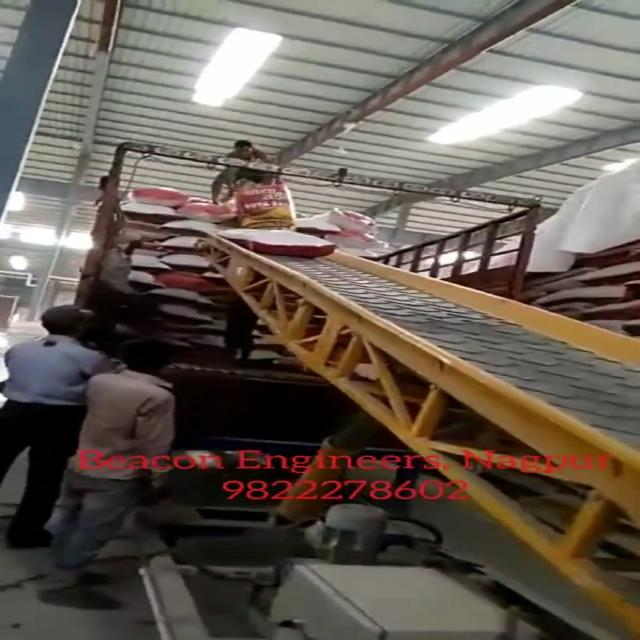Convoyeur: (197, 230, 640, 628)
